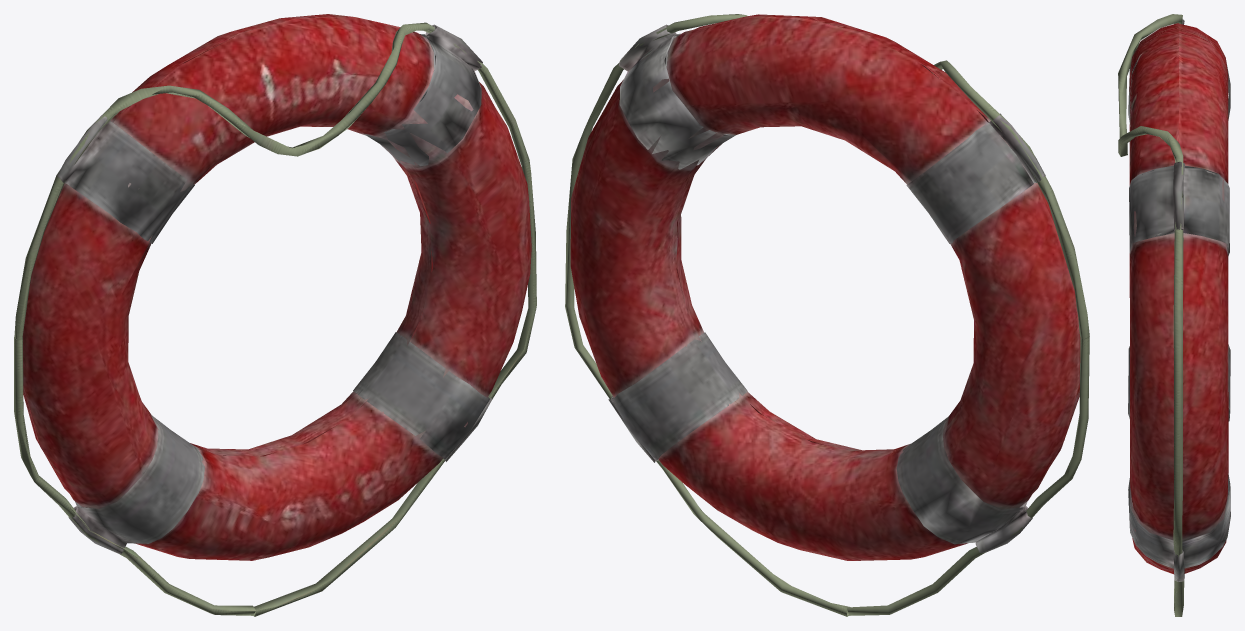
The model's file is lifebuoy.gltf.
3 renders of one model, left to right at view 1: azimuth 30°, elevation 25°; view 2: azimuth 150°, elevation 25°; view 3: azimuth 270°, elevation 25°, orthographic. The views are drawn at different scales.
Visible parts, largest first — view 1: lifebuoy; view 2: lifebuoy; view 3: lifebuoy.
Boxes of the visible parts, left/top/right/bottom form: lifebuoy: left=14, top=14, right=536, bottom=616; lifebuoy: left=565, top=14, right=1089, bottom=616; lifebuoy: left=1118, top=14, right=1230, bottom=616.
Size of the model in its own units: 0.7828 by 0.8399 by 0.1548.
Materials: 1 (1 with a texture image).
